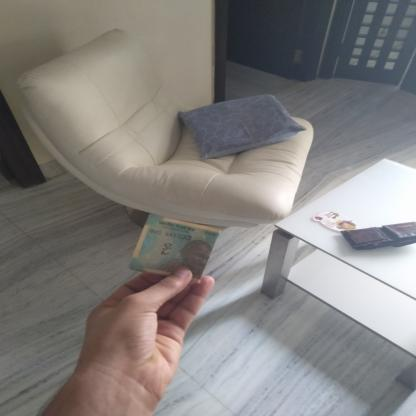New50Front: (133, 216, 215, 274)
